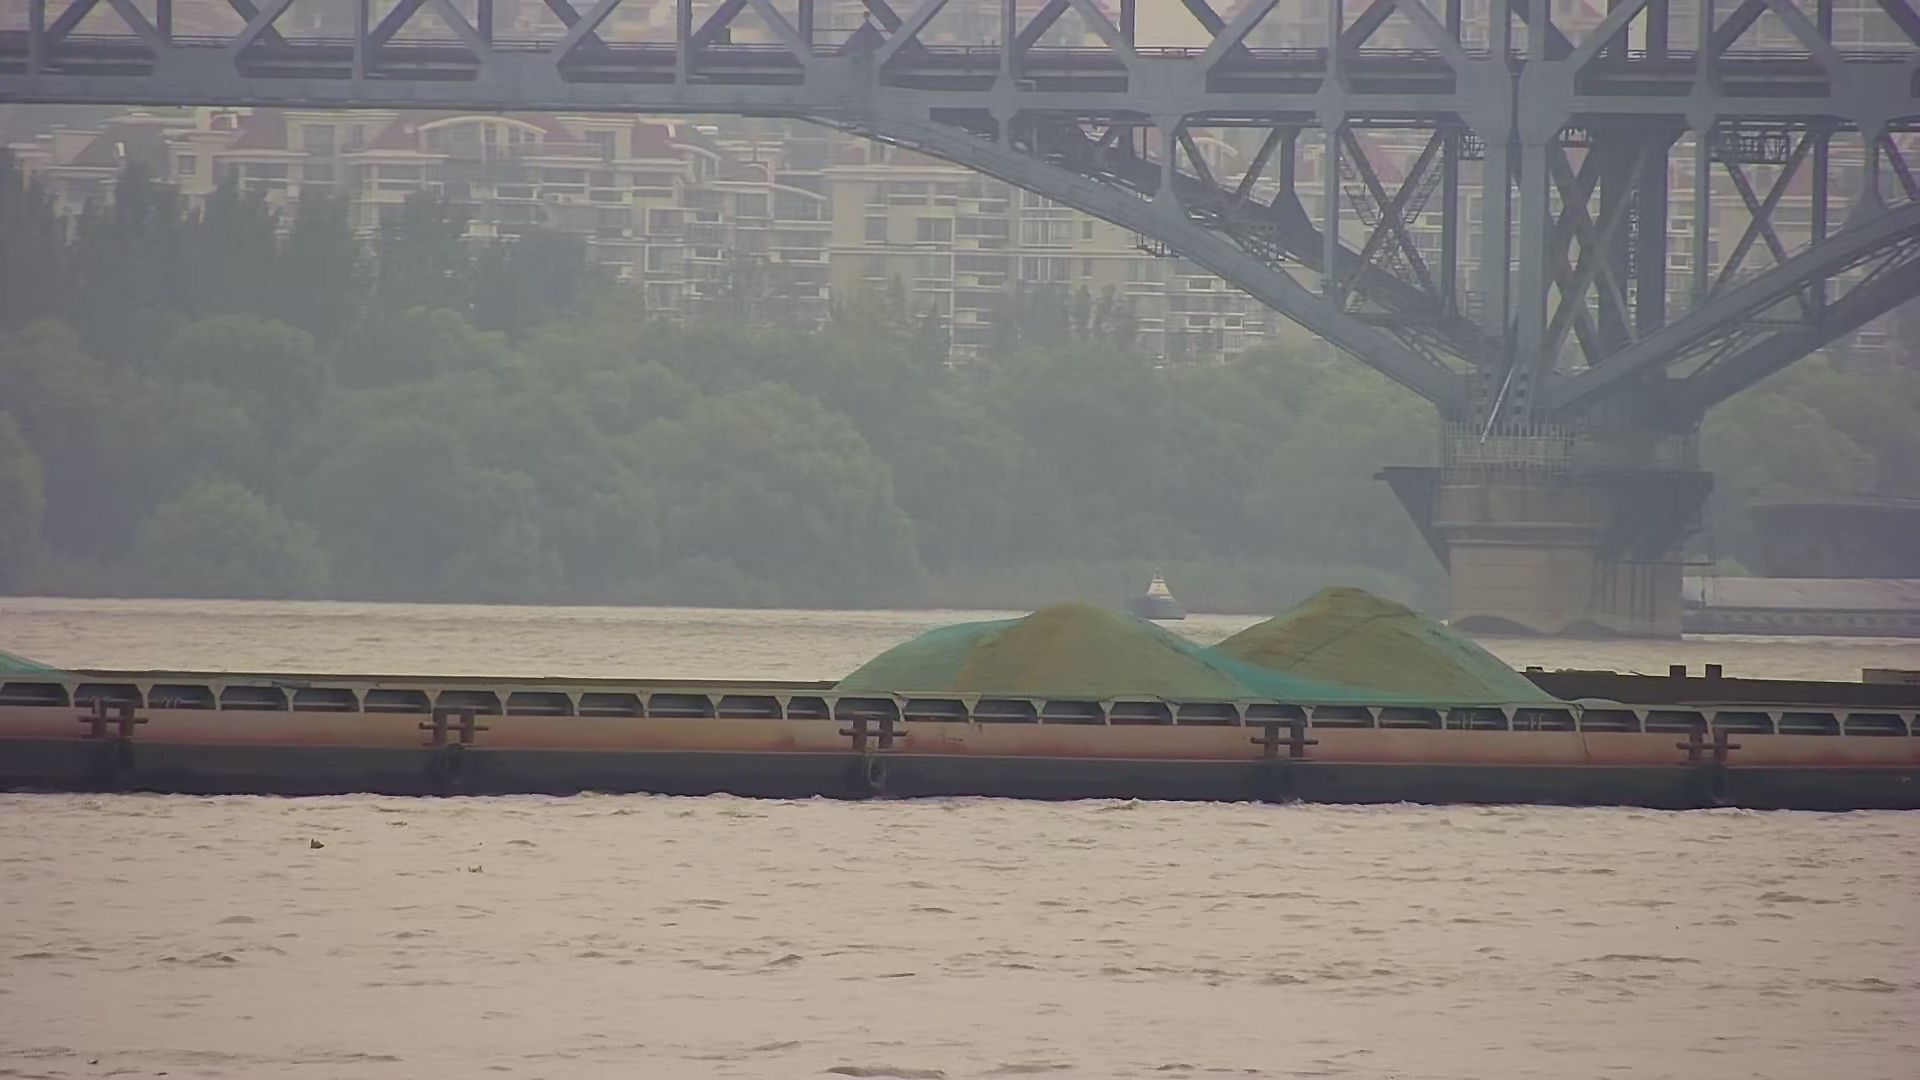boat: (1131, 564, 1193, 632)
bridge: (1, 1, 1917, 645)
ship: (4, 579, 1920, 803)
